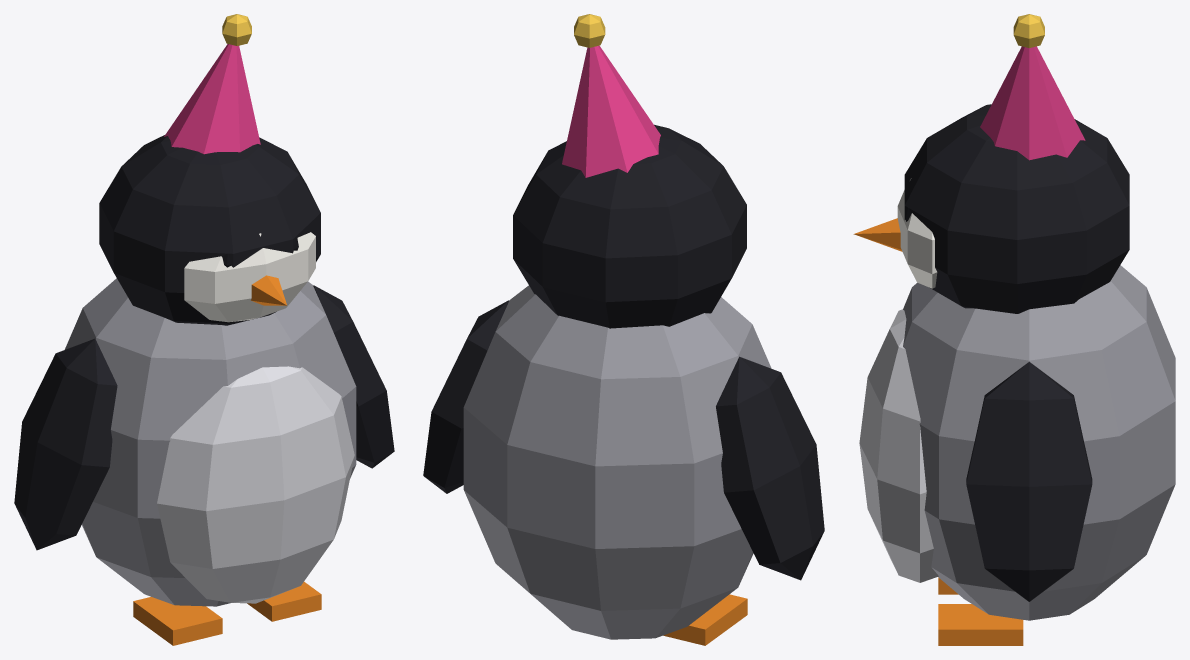
Rendered from animal_copito.glb.
3 views of the same model, side by side, from view 1: azimuth 30°, elevation 25°; view 2: azimuth 150°, elevation 25°; view 3: azimuth 270°, elevation 25° (orthographic). The views are drawn at different scales.
Visible parts, largest first — view 1: body_penguin_belly, body_penguin_fluff, head_penguin_black, wing_penguin_black, head_white, hat_party_hat, feet_penguin_orange, head_penguin_orange, hat_party_dot; view 2: body_penguin_fluff, head_penguin_black, wing_penguin_black, hat_party_hat, feet_penguin_orange, hat_party_dot; view 3: body_penguin_fluff, head_penguin_black, wing_penguin_black, body_penguin_belly, hat_party_hat, feet_penguin_orange, head_white, hat_party_dot, head_penguin_orange.
Boxes of the visible parts, x1=… form: body_penguin_belly: x1=157, y1=366, x2=354, y2=603; body_penguin_fluff: x1=64, y1=278, x2=356, y2=606; head_penguin_black: x1=99, y1=135, x2=320, y2=325; wing_penguin_black: x1=14, y1=285, x2=394, y2=550; head_white: x1=184, y1=232, x2=315, y2=322; hat_party_hat: x1=164, y1=44, x2=260, y2=154; feet_penguin_orange: x1=133, y1=581, x2=321, y2=645; head_penguin_orange: x1=251, y1=275, x2=286, y2=305; hat_party_dot: x1=222, y1=14, x2=251, y2=45; body_penguin_fluff: x1=463, y1=285, x2=771, y2=639; head_penguin_black: x1=513, y1=124, x2=746, y2=328; wing_penguin_black: x1=423, y1=300, x2=824, y2=580; hat_party_hat: x1=562, y1=45, x2=660, y2=177; feet_penguin_orange: x1=663, y1=594, x2=747, y2=645; hat_party_dot: x1=574, y1=14, x2=605, y2=47; body_penguin_fluff: x1=903, y1=265, x2=1175, y2=620; head_penguin_black: x1=904, y1=104, x2=1129, y2=313; wing_penguin_black: x1=966, y1=361, x2=1092, y2=601; body_penguin_belly: x1=859, y1=309, x2=938, y2=582; hat_party_hat: x1=980, y1=46, x2=1085, y2=160; feet_penguin_orange: x1=938, y1=577, x2=1023, y2=645; head_white: x1=897, y1=178, x2=937, y2=288; hat_party_dot: x1=1013, y1=14, x2=1044, y2=48; head_penguin_orange: x1=853, y1=218, x2=902, y2=251.
Size of the model in its own units: 0.3623 by 0.555 by 0.2655.
